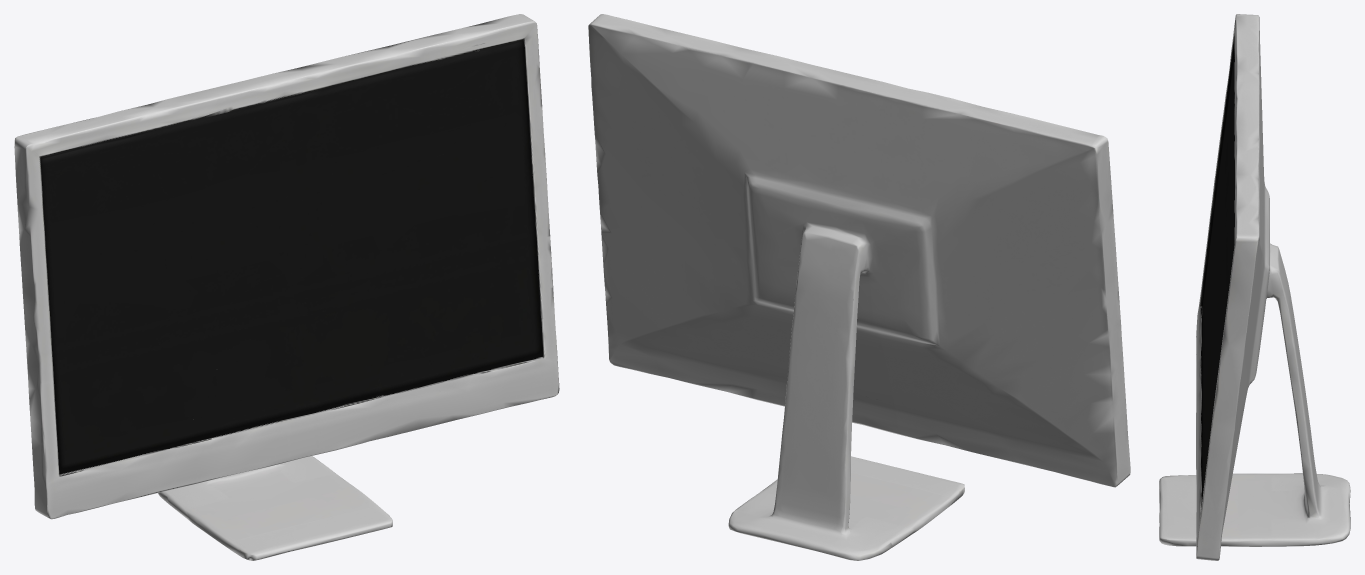
The model's file is monitor-white-legacy.glb.
3 views of the same model, side by side, from view 1: azimuth 30°, elevation 25°; view 2: azimuth 150°, elevation 25°; view 3: azimuth 270°, elevation 25° (orthographic). The views are drawn at different scales.
Parts seen in each view (by area): view 1: tripo_node_9c8d0793-42b1-47aa-85f6-6db5b4872ecd; view 2: tripo_node_9c8d0793-42b1-47aa-85f6-6db5b4872ecd; view 3: tripo_node_9c8d0793-42b1-47aa-85f6-6db5b4872ecd.
Part boxes in pixels (box(x1,y1,x2,y2)): tripo_node_9c8d0793-42b1-47aa-85f6-6db5b4872ecd: box(14, 14, 559, 560); tripo_node_9c8d0793-42b1-47aa-85f6-6db5b4872ecd: box(588, 14, 1130, 560); tripo_node_9c8d0793-42b1-47aa-85f6-6db5b4872ecd: box(1159, 14, 1350, 560).
Size of the model in its own units: 0.9786 by 0.789 by 0.3507.
Materials: 1 (1 with a texture image).
